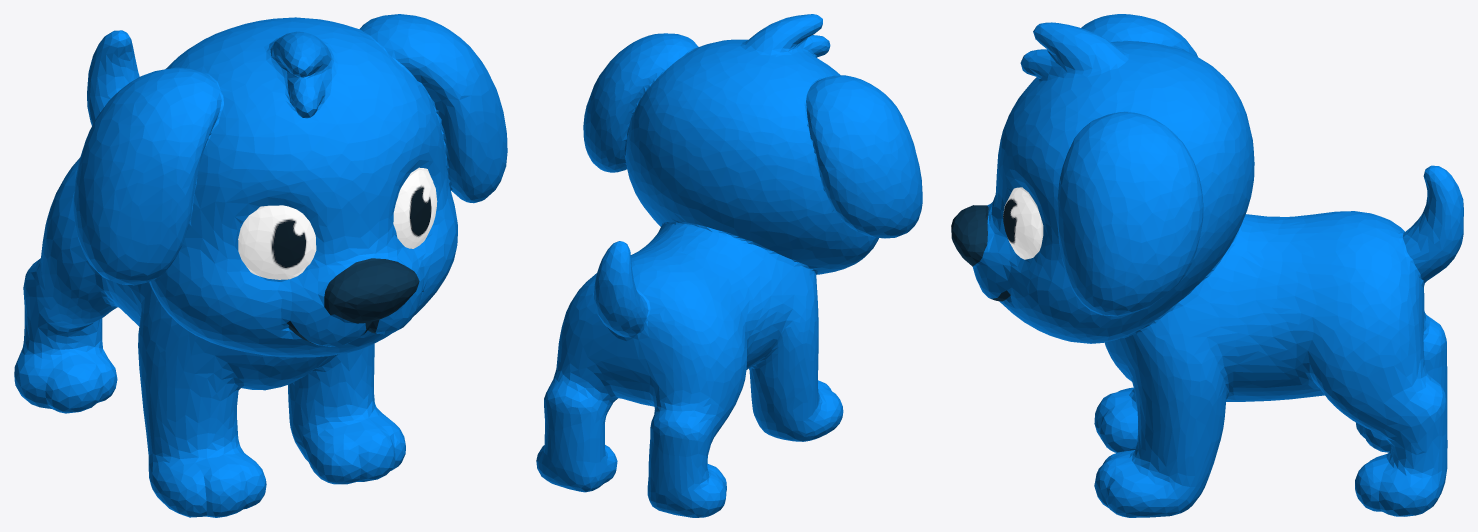
The model's file is testdog2.glb.
3 views of the same model, side by side, from view 1: azimuth 30°, elevation 25°; view 2: azimuth 150°, elevation 25°; view 3: azimuth 270°, elevation 25° (orthographic). The views are drawn at different scales.
Visible parts, largest first — view 1: tmpndh8hj47.ply; view 2: tmpndh8hj47.ply; view 3: tmpndh8hj47.ply.
Part boxes in pixels (x1=…): tmpndh8hj47.ply: x1=14, y1=14, x2=507, y2=517; tmpndh8hj47.ply: x1=536, y1=14, x2=922, y2=517; tmpndh8hj47.ply: x1=951, y1=14, x2=1463, y2=517.
Size of the model in its own units: 1.68 by 1.86 by 1.99.
3 materials, 1 textured.
